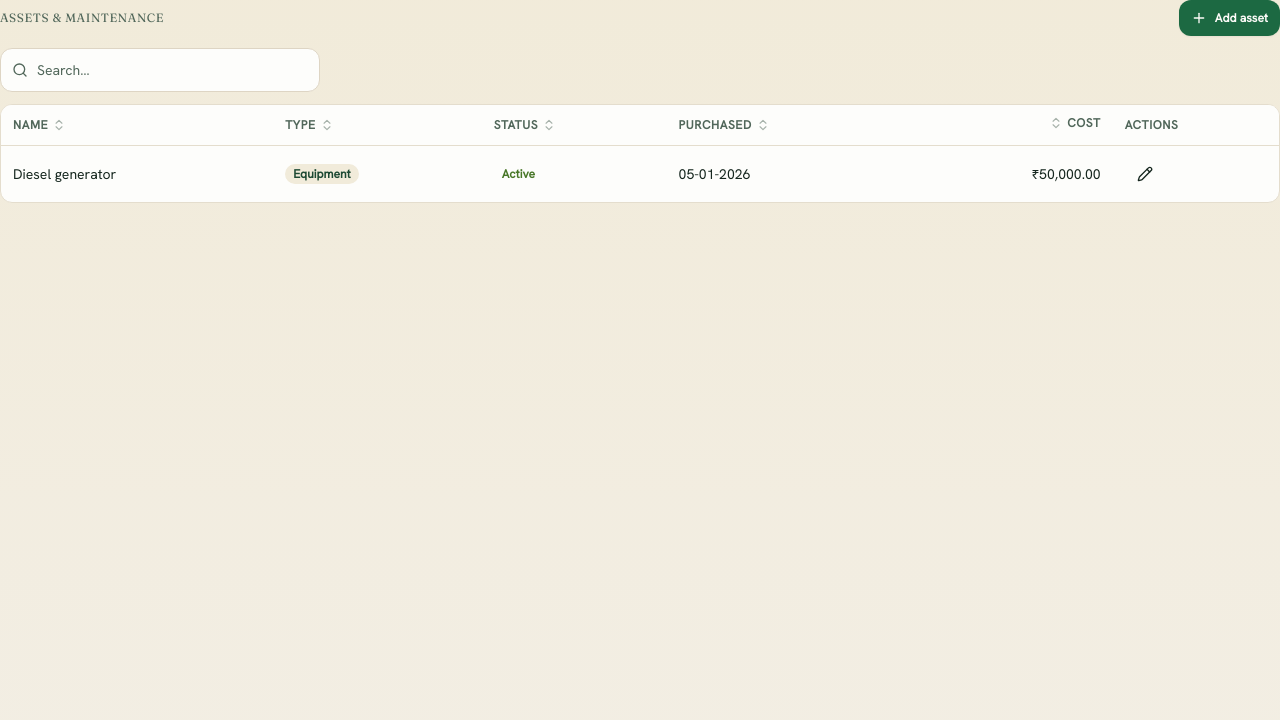
Test: AssetsPanel › records a service with cost + vendor from the detail dialog
Click the text "Diesel generator" at [65, 174], box [1,145,1279,202]
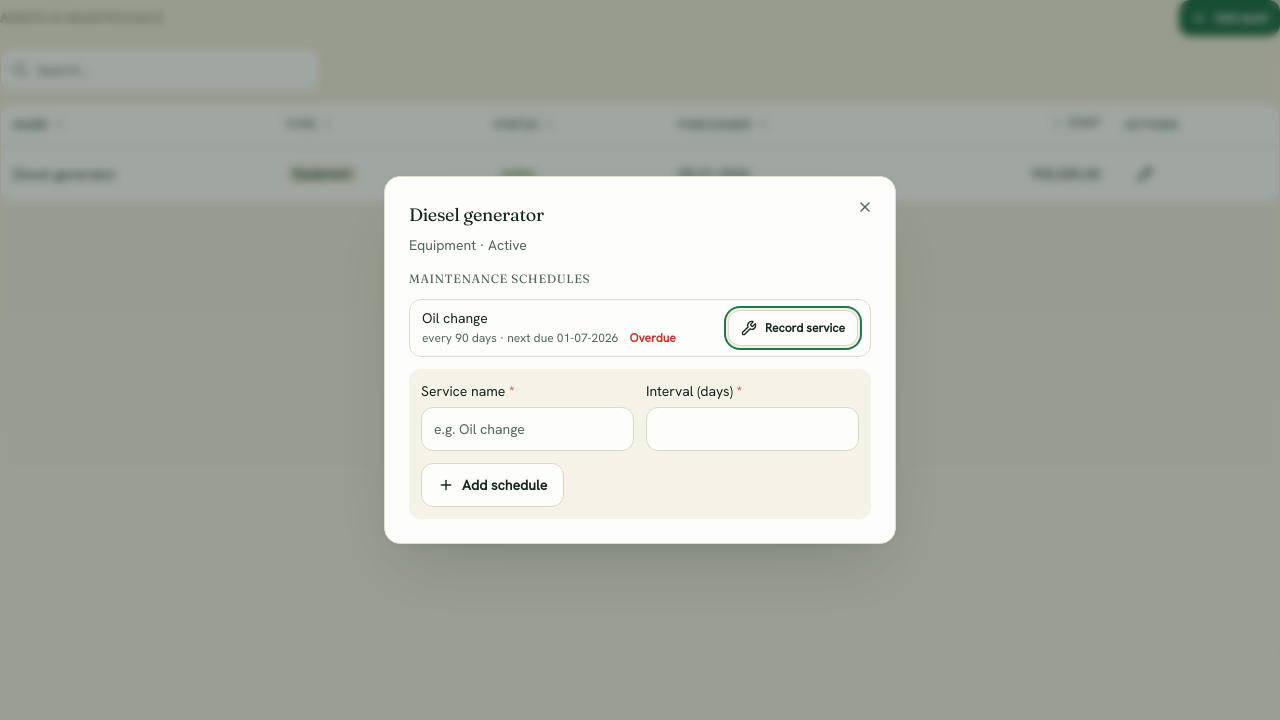
Expected: the text "Oil change" is shown, [422,309,488,327]
Click the button "Record service" at [793, 328], box [728,310,858,346]
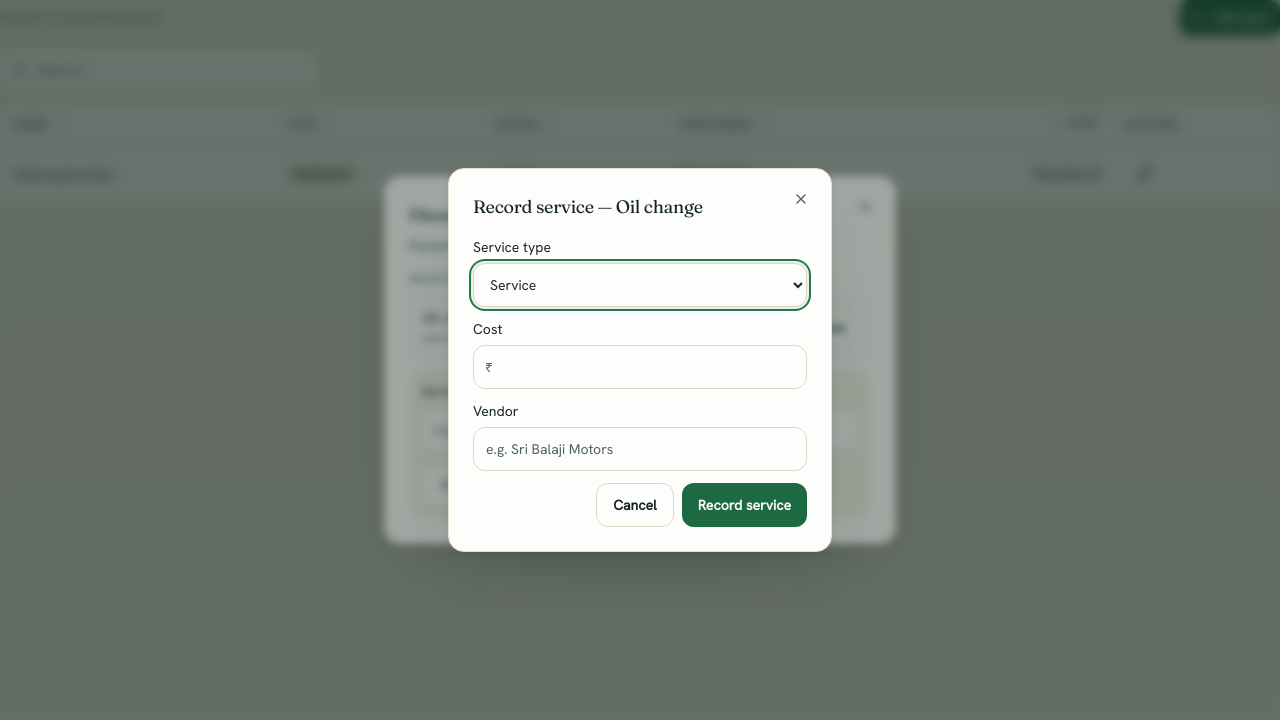
Type "450" into the field labelled "Cost" at [640, 367], box [473,345,807,389]
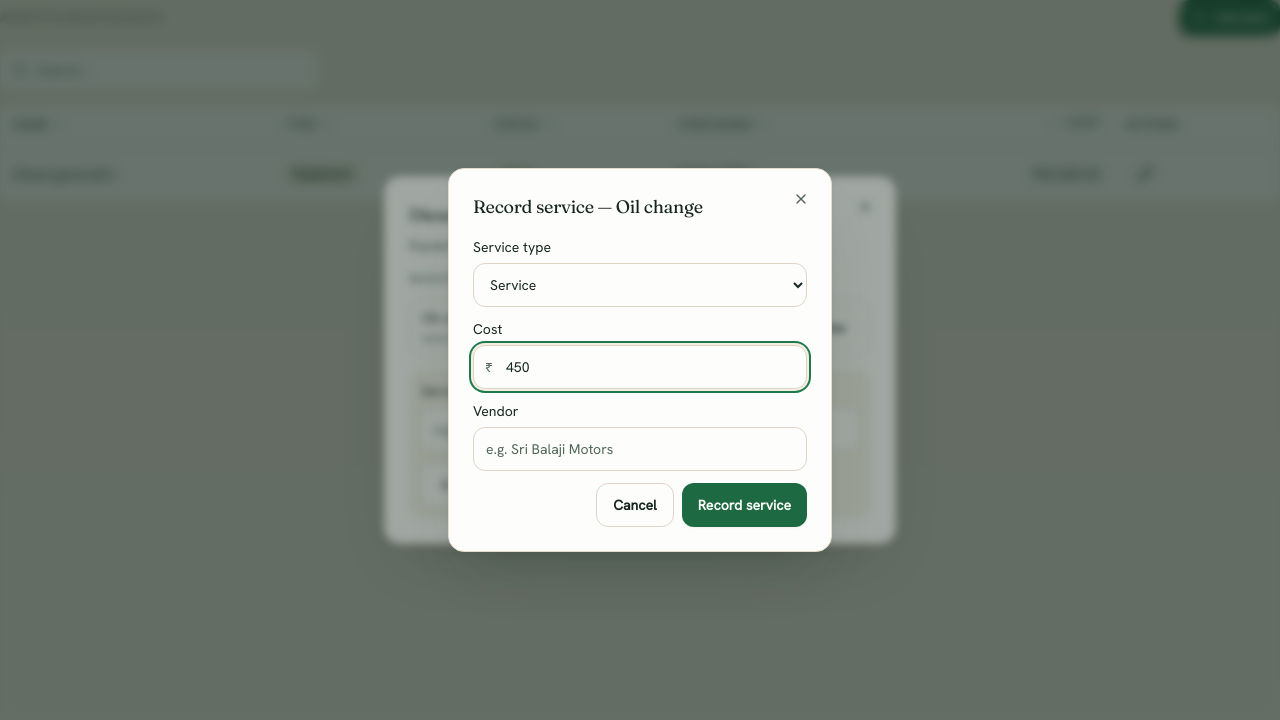
Type "Sri Balaji Motors" into the field labelled "Vendor" at [640, 449], box [473,427,807,471]
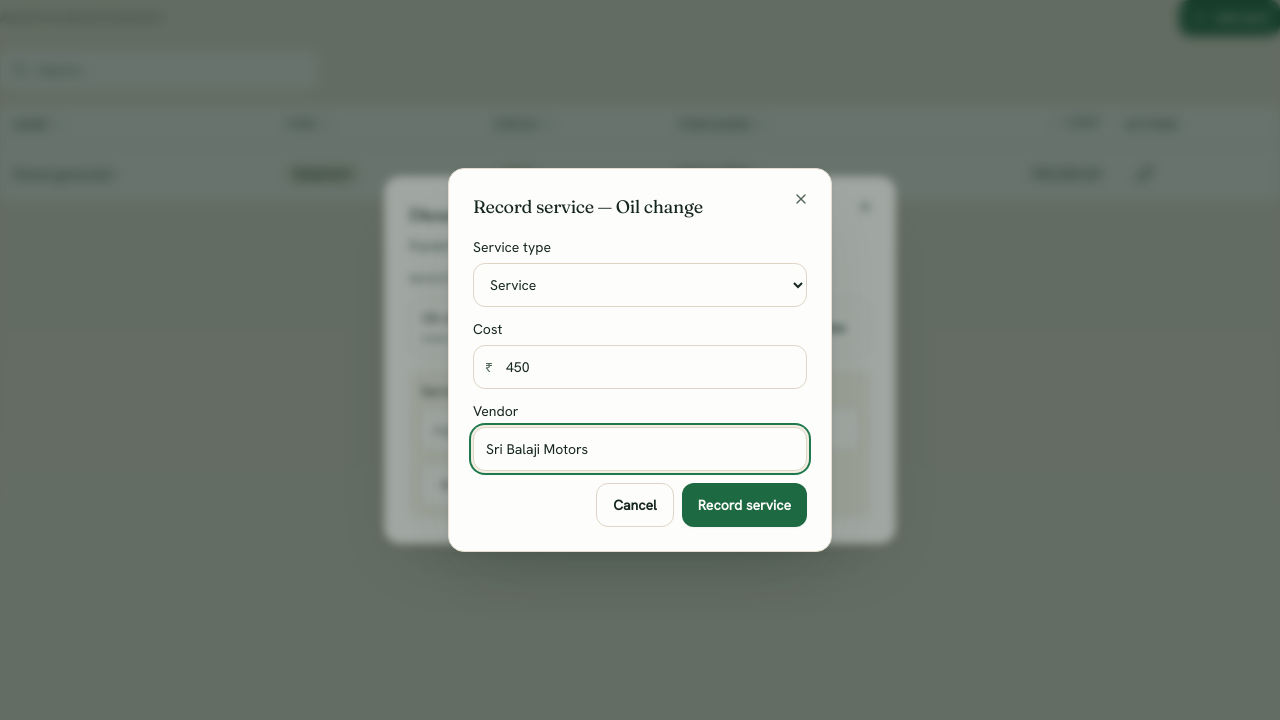
Click the button "Record service" at [744, 505], box [682,483,807,527]
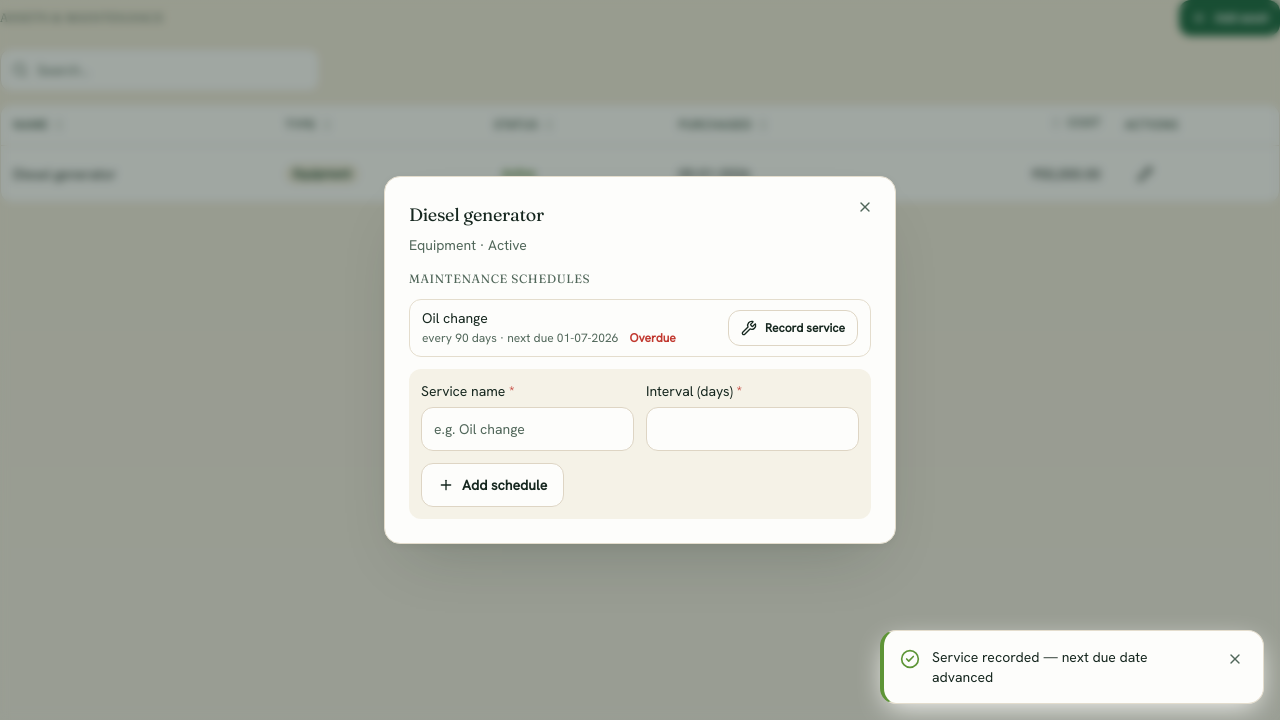
Expected: the text "Service recorded — next due date advanced" is shown, [932,648,1148,686]
